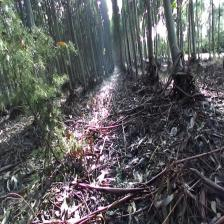trunk: (162, 2, 184, 70), (146, 2, 156, 68), (190, 4, 197, 60)
